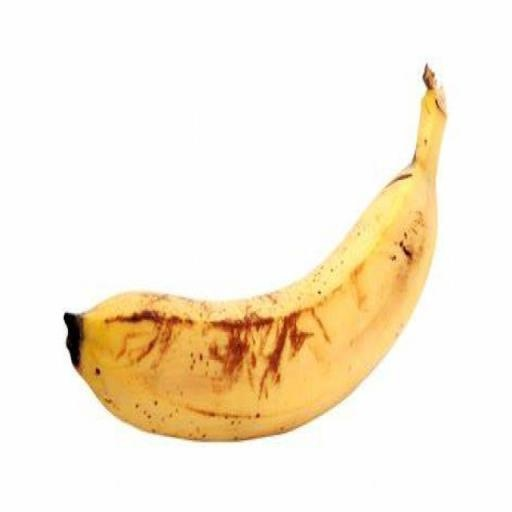fruit: (64, 68, 444, 439)
